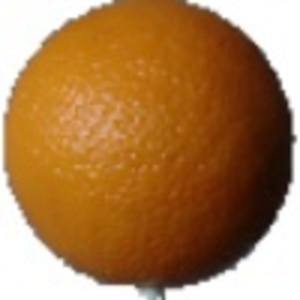laranja: (2, 2, 293, 290)
